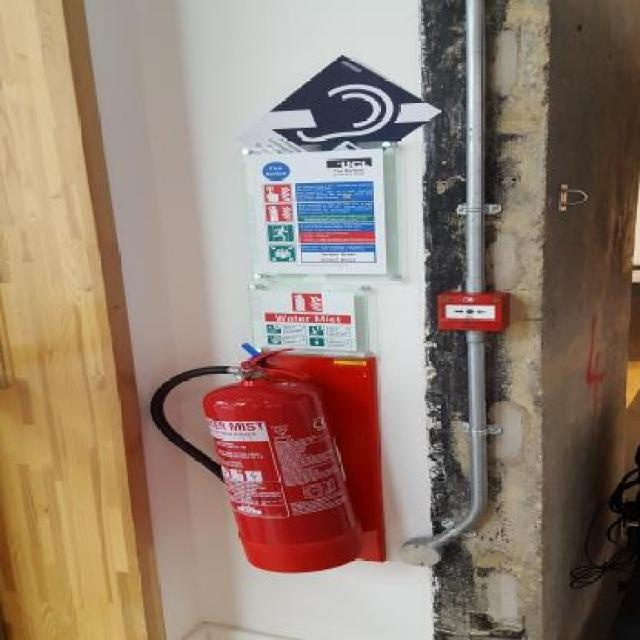fire extinguisher: (148, 351, 365, 572)
